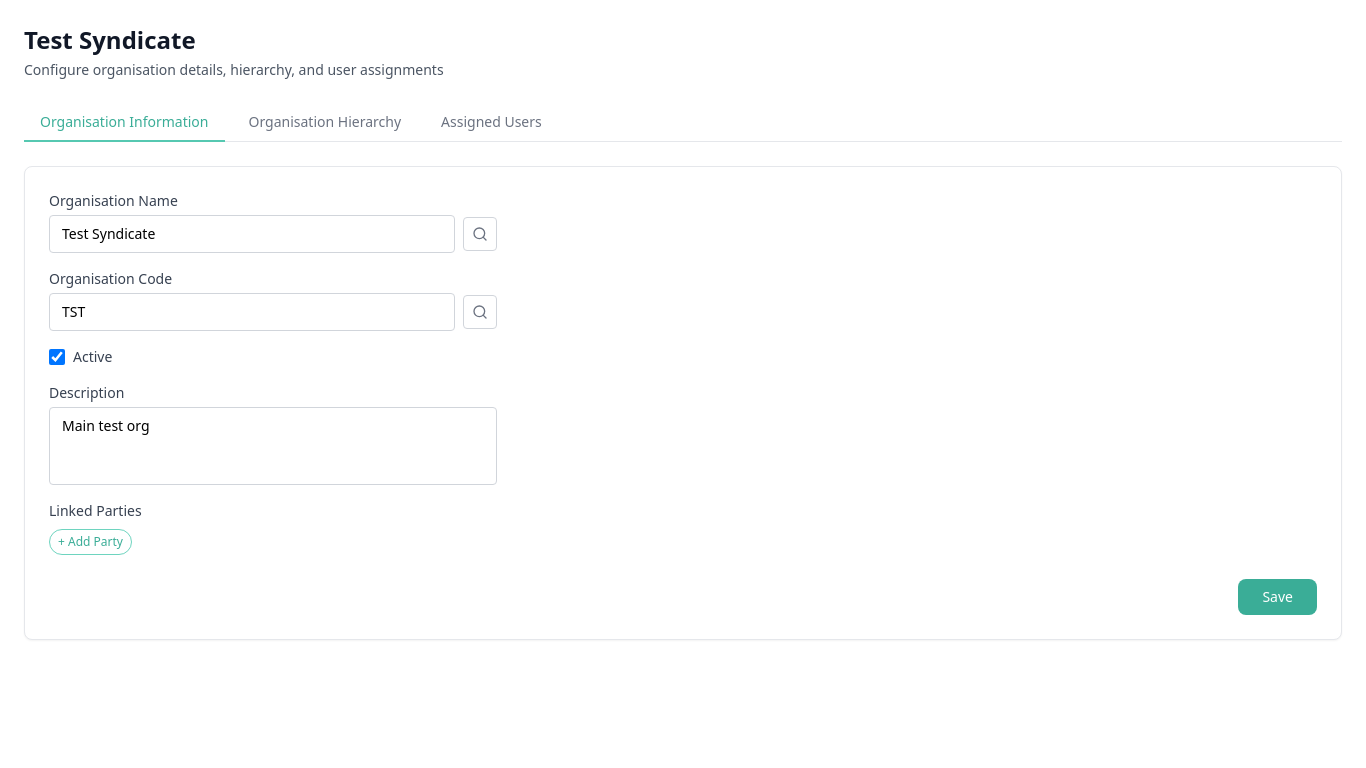
Scenario: T-settings-org-R05: Users tab shows checkboxes for each user › loads users list and renders a checkbox per user
The image size is (1366, 768).
Check: the field showing "Test Syndicate" below "Organisation Name" is shown, box [49,215,455,253]
Step 1. Click the tab "Assigned Users" → (491, 123), box [425,104,558,142]
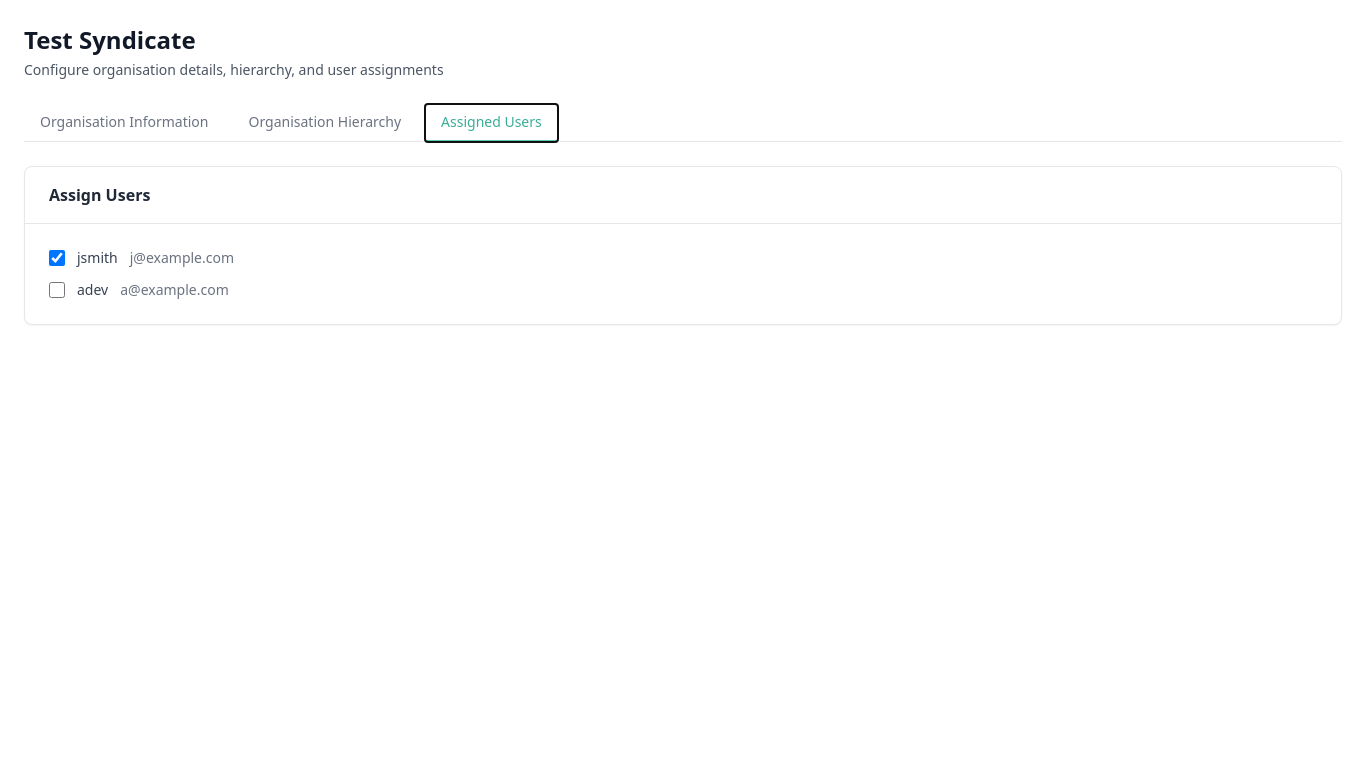
Check: the checkbox labelled "jsmith j@example.com" is shown, box [49,250,65,266]
Check: the text "jsmith" is shown, box [77,248,118,268]
Check: the text "adev" is shown, box [77,280,108,300]
